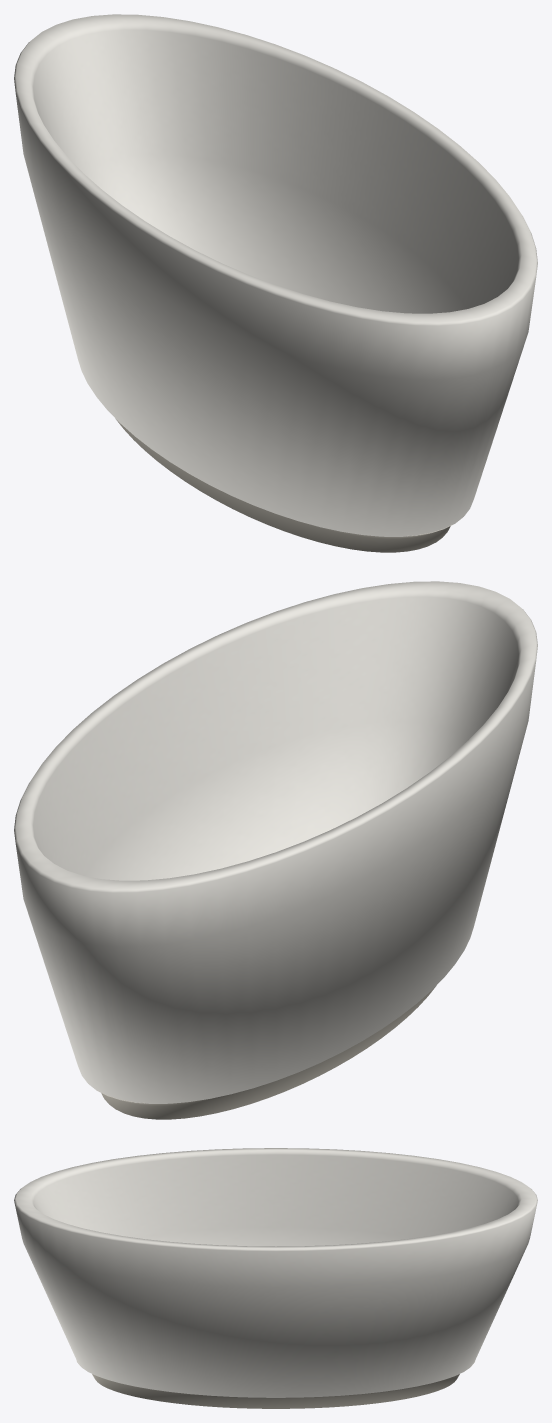
3 views of the same model, one above another, from view 1: azimuth 30°, elevation 25°; view 2: azimuth 150°, elevation 25°; view 3: azimuth 270°, elevation 25° (orthographic). The views are drawn at different scales.
Visible parts, largest first — view 1: Bath | deep oval soaking shell, Bath | recessed foot; view 2: Bath | deep oval soaking shell, Bath | recessed foot; view 3: Bath | deep oval soaking shell, Bath | recessed foot.
Part boxes in pixels (x1,y1,x2,y2): Bath | deep oval soaking shell: (14, 14, 537, 536); Bath | recessed foot: (116, 419, 452, 552); Bath | deep oval soaking shell: (14, 581, 537, 1103); Bath | recessed foot: (99, 986, 435, 1119); Bath | deep oval soaking shell: (14, 1148, 537, 1397); Bath | recessed foot: (77, 1361, 474, 1408).
Size of the model in its own units: 0.782 by 0.634 by 1.7.
3 materials, 3 textured.
